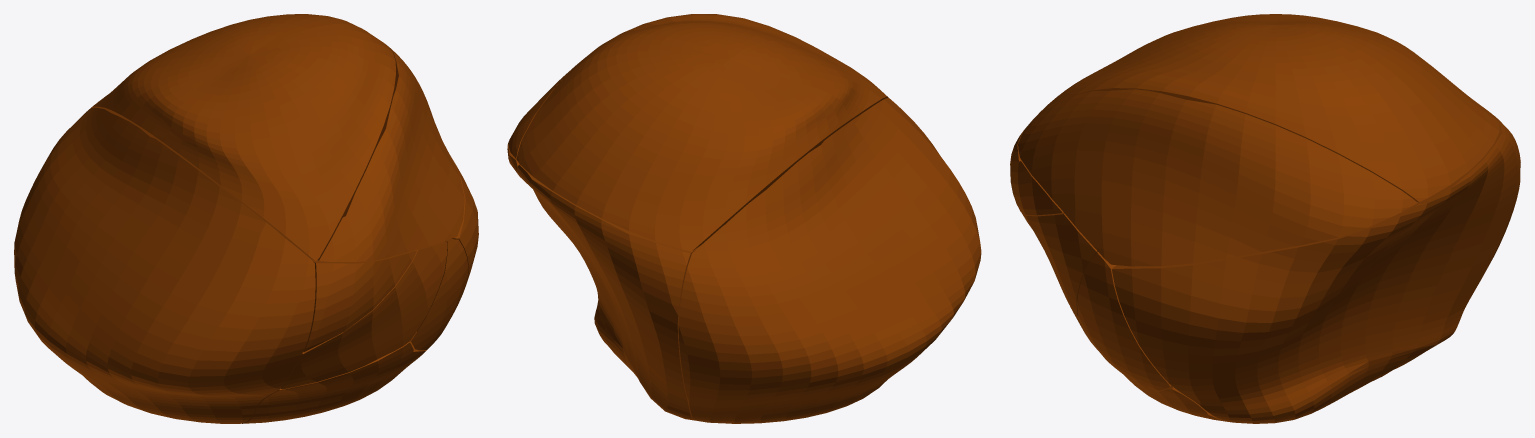
The model's file is Asteroid`.fbx.
3 views of the same model, side by side, from view 1: azimuth 30°, elevation 25°; view 2: azimuth 150°, elevation 25°; view 3: azimuth 270°, elevation 25° (orthographic). The views are drawn at different scales.
Parts seen in each view (by area): view 1: Sphere_cell.003, Sphere_cell.004, Sphere_cell.001, Sphere_cell.002_cell.001, Sphere_cell.002_cell.003, Sphere_cell.002_cell.006, Sphere_cell.002_cell.002, Sphere_cell.005; view 2: Sphere_cell.003, Sphere_cell.004, Sphere_cell.005, Sphere_cell.001; view 3: Sphere_cell.005, Sphere_cell.001, Sphere_cell.004, Sphere_cell.002_cell.002, Sphere_cell.002_cell.001, Sphere_cell.002_cell.003, Sphere_cell.002_cell, Sphere_cell.002_cell.004.
Boxes of the visible parts, x1=… form: Sphere_cell.003: x1=14, y1=107, x2=315, y2=423; Sphere_cell.004: x1=93, y1=14, x2=395, y2=261; Sphere_cell.001: x1=318, y1=46, x2=464, y2=261; Sphere_cell.002_cell.001: x1=281, y1=241, x2=447, y2=389; Sphere_cell.002_cell.003: x1=303, y1=250, x2=416, y2=351; Sphere_cell.002_cell.006: x1=242, y1=342, x2=413, y2=423; Sphere_cell.002_cell.002: x1=411, y1=239, x2=468, y2=350; Sphere_cell.005: x1=86, y1=103, x2=478, y2=284; Sphere_cell.003: x1=678, y1=97, x2=981, y2=423; Sphere_cell.004: x1=516, y1=14, x2=888, y2=251; Sphere_cell.005: x1=507, y1=144, x2=700, y2=420; Sphere_cell.001: x1=508, y1=68, x2=572, y2=158; Sphere_cell.005: x1=1112, y1=115, x2=1520, y2=423; Sphere_cell.001: x1=1018, y1=89, x2=1417, y2=266; Sphere_cell.004: x1=1039, y1=14, x2=1499, y2=202; Sphere_cell.002_cell.002: x1=1077, y1=252, x2=1170, y2=391; Sphere_cell.002_cell.001: x1=1022, y1=212, x2=1097, y2=315; Sphere_cell.002_cell.003: x1=1010, y1=132, x2=1063, y2=215; Sphere_cell.002_cell: x1=1159, y1=387, x2=1228, y2=421; Sphere_cell.002_cell.004: x1=1092, y1=341, x2=1176, y2=409.
Bounding box in the file's own units: 66.98 × 54.85 × 68.75.
